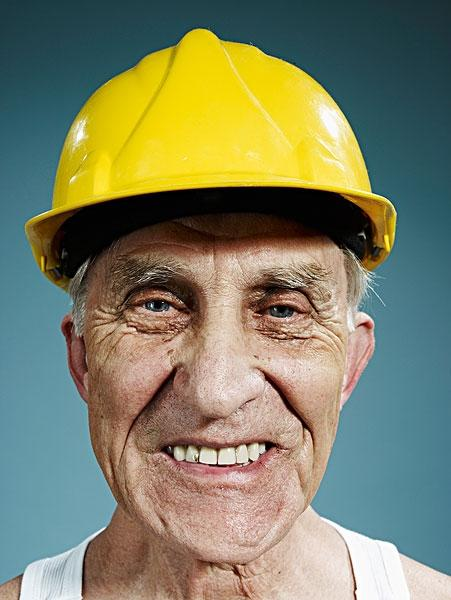helmet: (17, 26, 401, 275)
